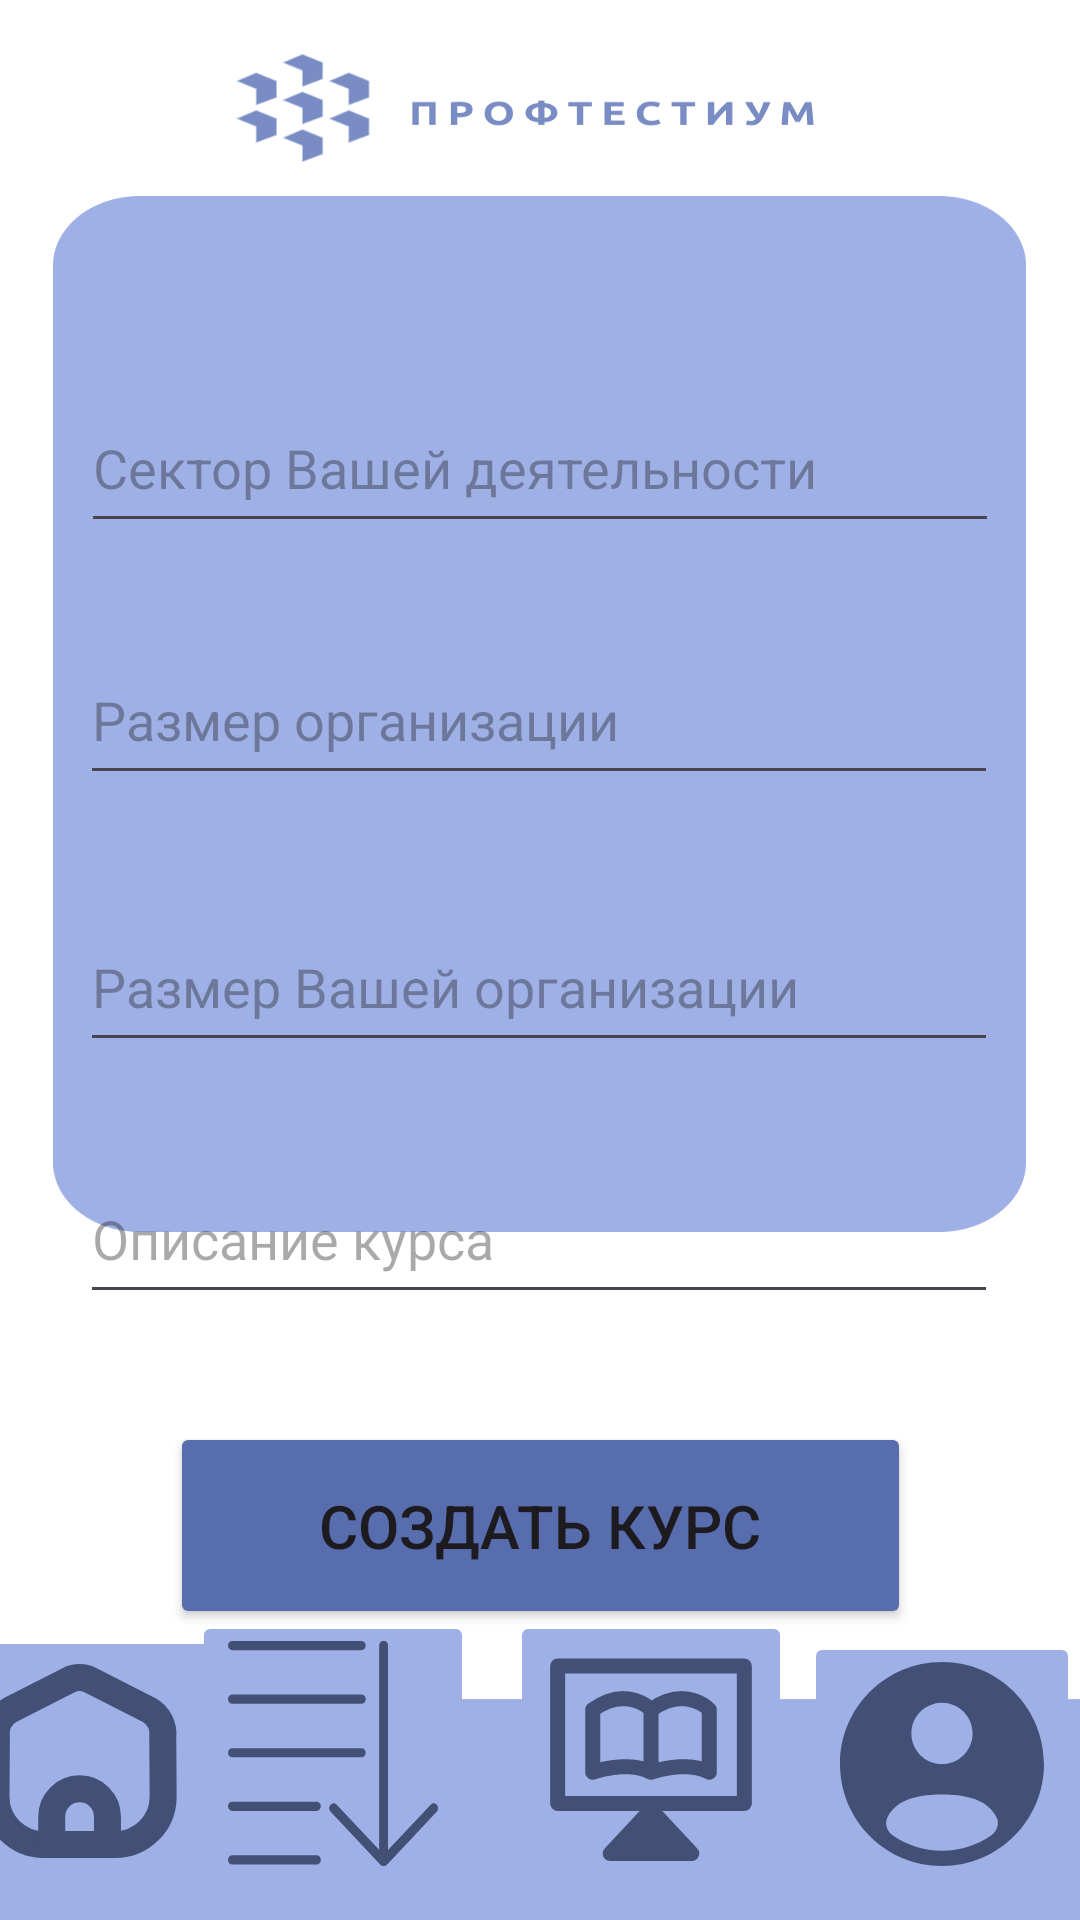

Screen size 1080 × 1920. Icon name, then its center in pixels as [x,y]:
user: [942,1764]
